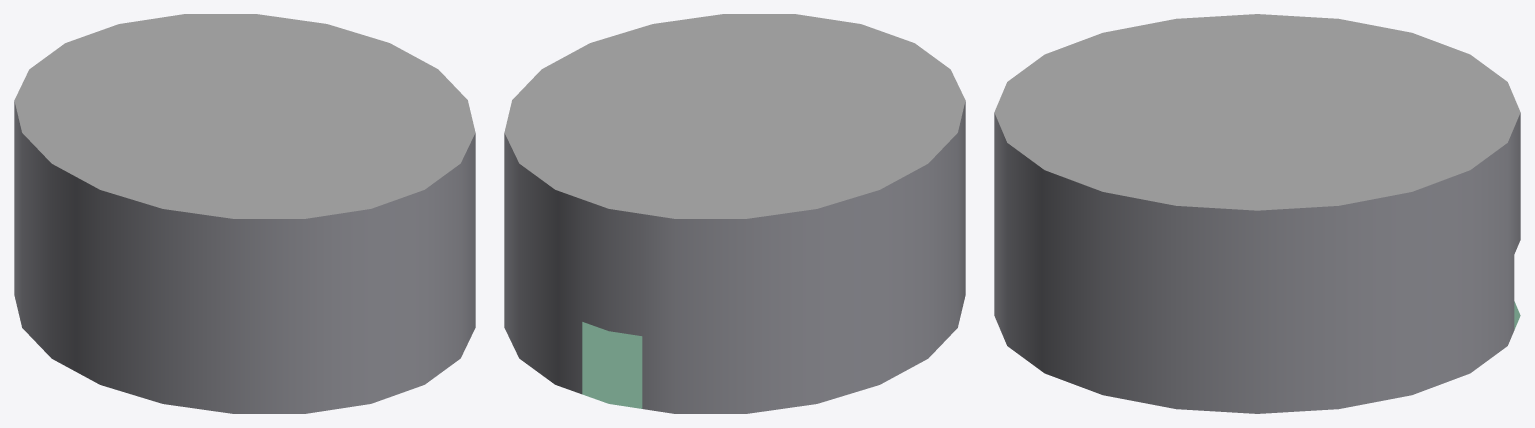
File: Atrium.fbx
3 views of the same model, side by side, from view 1: azimuth 30°, elevation 25°; view 2: azimuth 150°, elevation 25°; view 3: azimuth 270°, elevation 25° (orthographic). The views are drawn at different scales.
Visible parts, largest first — view 1: pCylinder1; view 2: pCylinder1; view 3: pCylinder1.
Boxes of the visible parts, <box> form: pCylinder1: <box>14,14,475,413</box>; pCylinder1: <box>504,14,965,413</box>; pCylinder1: <box>994,14,1520,413</box>.
Size of the model in its own units: 2711 by 1307 by 3066.
